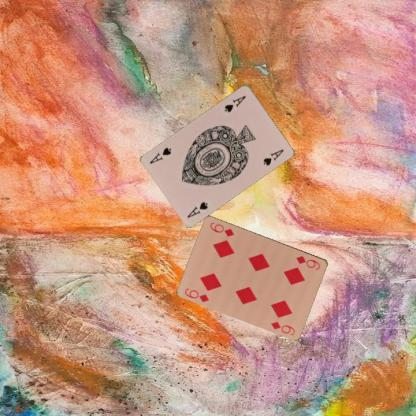6d: (294, 253, 322, 271), (182, 286, 210, 304)
As: (222, 92, 248, 114), (184, 199, 209, 219)
